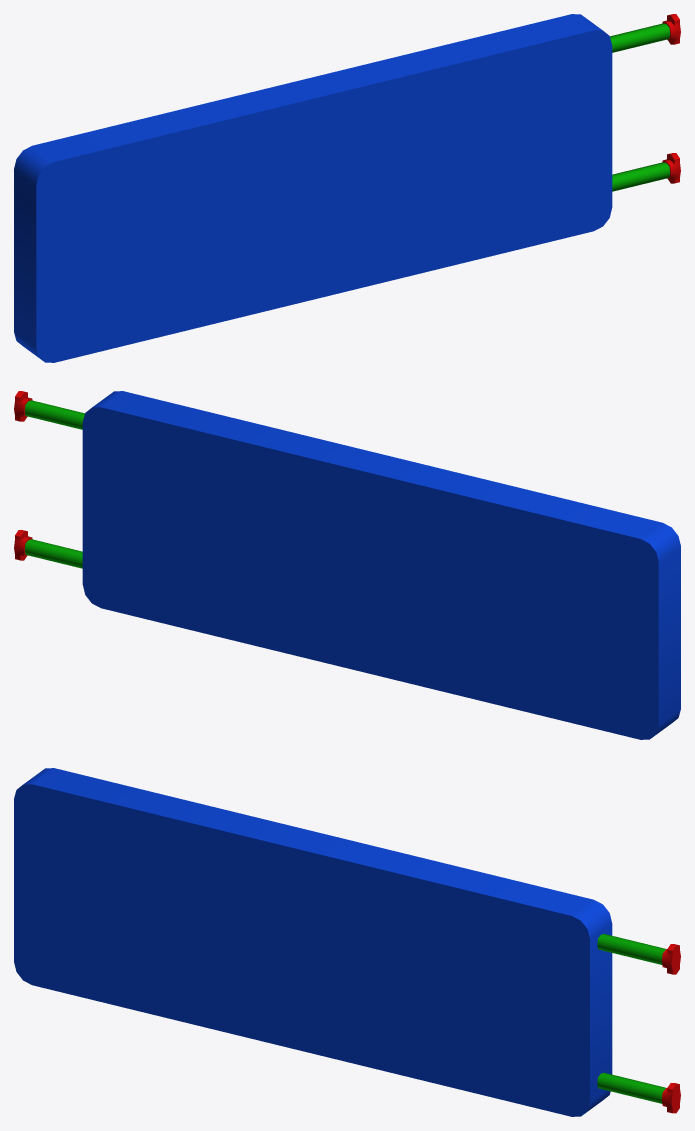
The model's file is small wall mounted sign.fbx.
3 renders of one model, top to bottom at view 1: azimuth 30°, elevation 25°; view 2: azimuth 150°, elevation 25°; view 3: azimuth 330°, elevation 25°, orthographic.
Parts seen in each view (by area): view 1: Cube.002; view 2: Cube.002; view 3: Cube.002.
Part boxes in pixels (box(x1,y1,x2,y2)): Cube.002: box(14, 14, 680, 362); Cube.002: box(14, 391, 680, 739); Cube.002: box(14, 768, 680, 1116).
Bounding box in the file's own units: 117 × 34.41 × 6.88.
